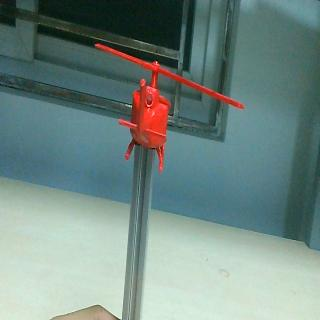Helicopter: (94, 39, 246, 173)
